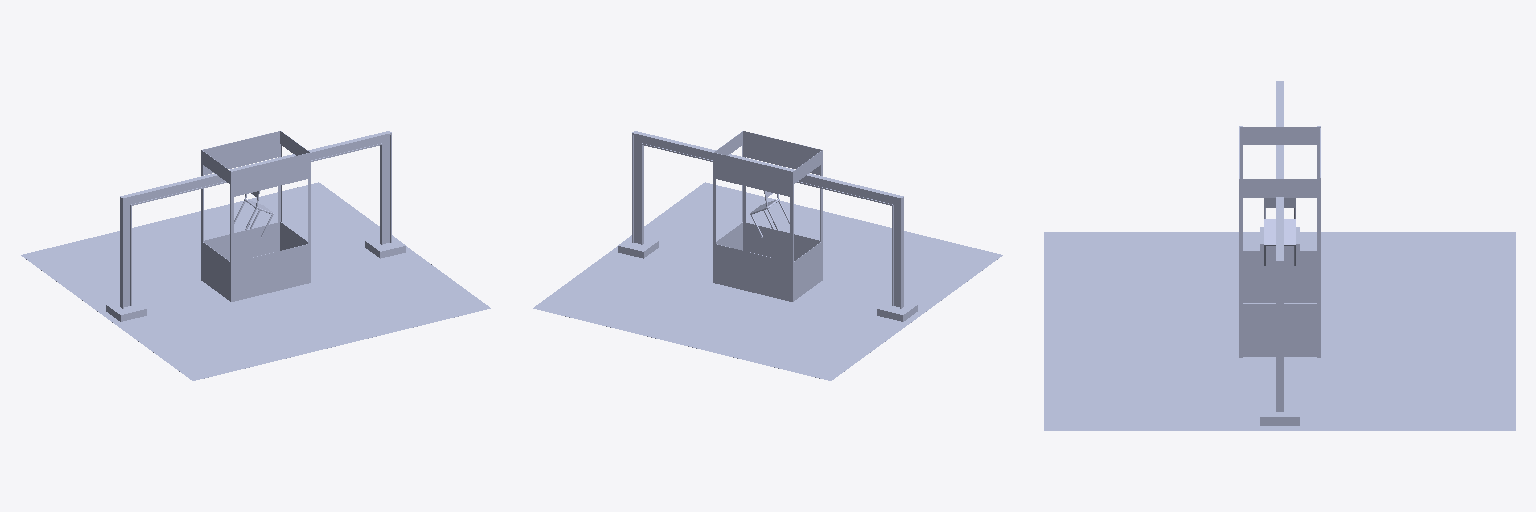
URDF robot description (factory_setup_1):
<?xml version="1.0" encoding="utf-8"?>
<!-- This URDF was automatically created by SolidWorks to URDF Exporter! Originally created by [author] ([email redacted]) 
     Commit Version: 1.5.1-0-g916b5db  Build Version: 1.5.7152.31018
     For more information, please see http://wiki.ros.org/sw_urdf_exporter -->
<robot name="factory_setup_1">
  <link name="setup">
    <inertial>
      <origin xyz="0.0 0.0 0.0" rpy="0 0 0" />
      <mass value="201.83" />
      <inertia ixx="255.44" ixy="0.00282690000000009" ixz="-1.5101" iyy="913.23" iyz="-0.0954500000000035" izz="855.58" />
    </inertial>
    <visual>
      <origin xyz="0 0 0" rpy="1.5707963267949 0 0" />
      <geometry>
        <mesh filename="package://owr_description/meshes/factory_setup/setup.STL" />
      </geometry>
      <material name="">
        <color rgba="0.79216 0.81961 0.93333 1" />
      </material>
    </visual>
    <collision>
      <origin xyz="0 0 0" rpy="1.5707963267949 0 0" />
      <geometry>
        <mesh filename="package://owr_description/meshes/factory_setup/setup.STL" />
      </geometry>
    </collision>
  </link>

  <gazebo reference="setup">
    <material>Gazebo/Grey</material>
  </gazebo>

  <gazebo>
    <static>true</static>
  </gazebo>

  <!-- <joint name="fixed_base" type="fixed">
    <parent link="world"/> 
    <child link="setup"/>
    <origin xyz="0.828830 -0.93032 0.003412" rpy="0.001679 0 1.566213"/>
  </joint> -->
</robot>

--- What the picture shows (computed from the rendered views, not written in the file) ---
Views: 3 orthographic renders of the robot side by side, from view 1: azimuth 30°, elevation 25°; view 2: azimuth 150°, elevation 25°; view 3: azimuth 270°, elevation 25°.
Model factory_setup_1 with 1 links and 0 joints (none), rooted at setup, posed all joints at 0.
Visible links, largest first — view 1: setup; view 2: setup; view 3: setup.
Boxes of the visible links, <box> form: setup: <box>21,131,490,380</box>; setup: <box>533,131,1002,380</box>; setup: <box>1044,81,1515,430</box>.
Size in the robot's own frame: 5.75 by 5.75 by 2.4 metres.
Meshes: 1 distinct files referenced, 1 mesh visuals loaded (1 binary STL).
